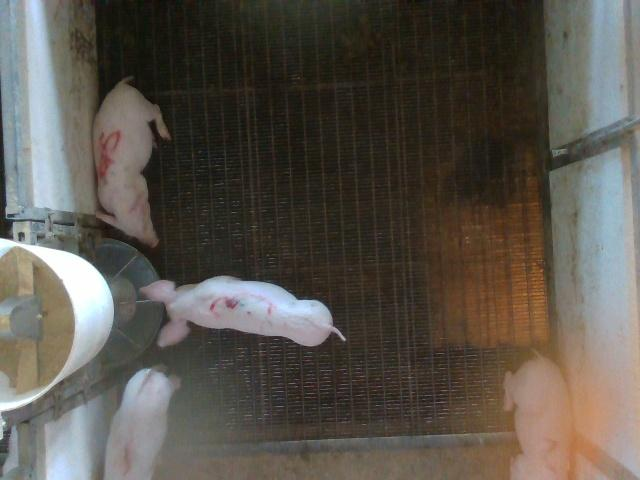pig-1: (104, 369, 175, 478)
pig-2: (504, 354, 571, 478)
pig-3: (141, 276, 345, 346)
pig-5: (94, 78, 170, 247)
